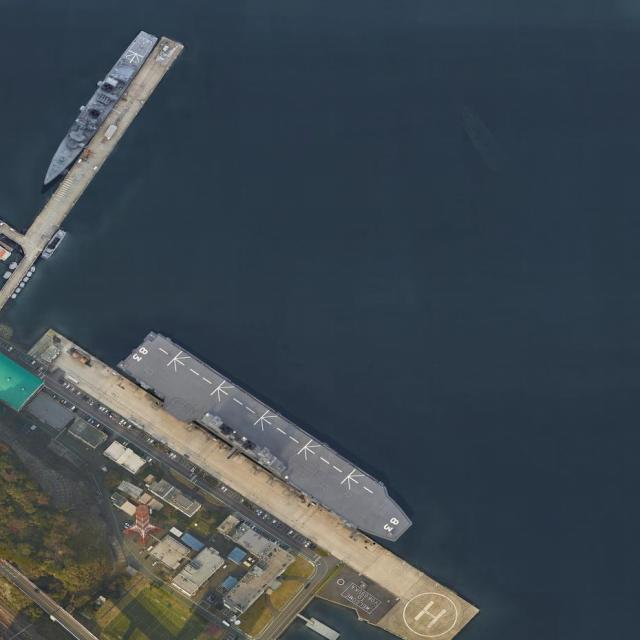Destroyer: (114, 323, 422, 560), (32, 24, 160, 195)
Dock: (26, 32, 184, 248)
Other Ship: (41, 228, 68, 262)
